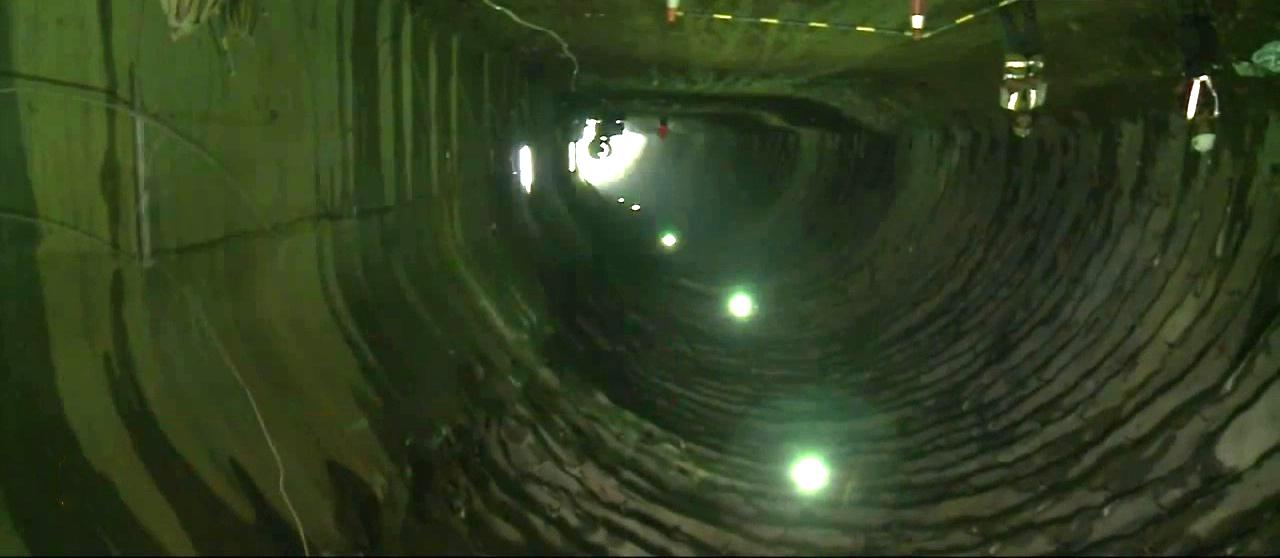helmet: (1189, 118, 1217, 153), (1011, 113, 1033, 139)
